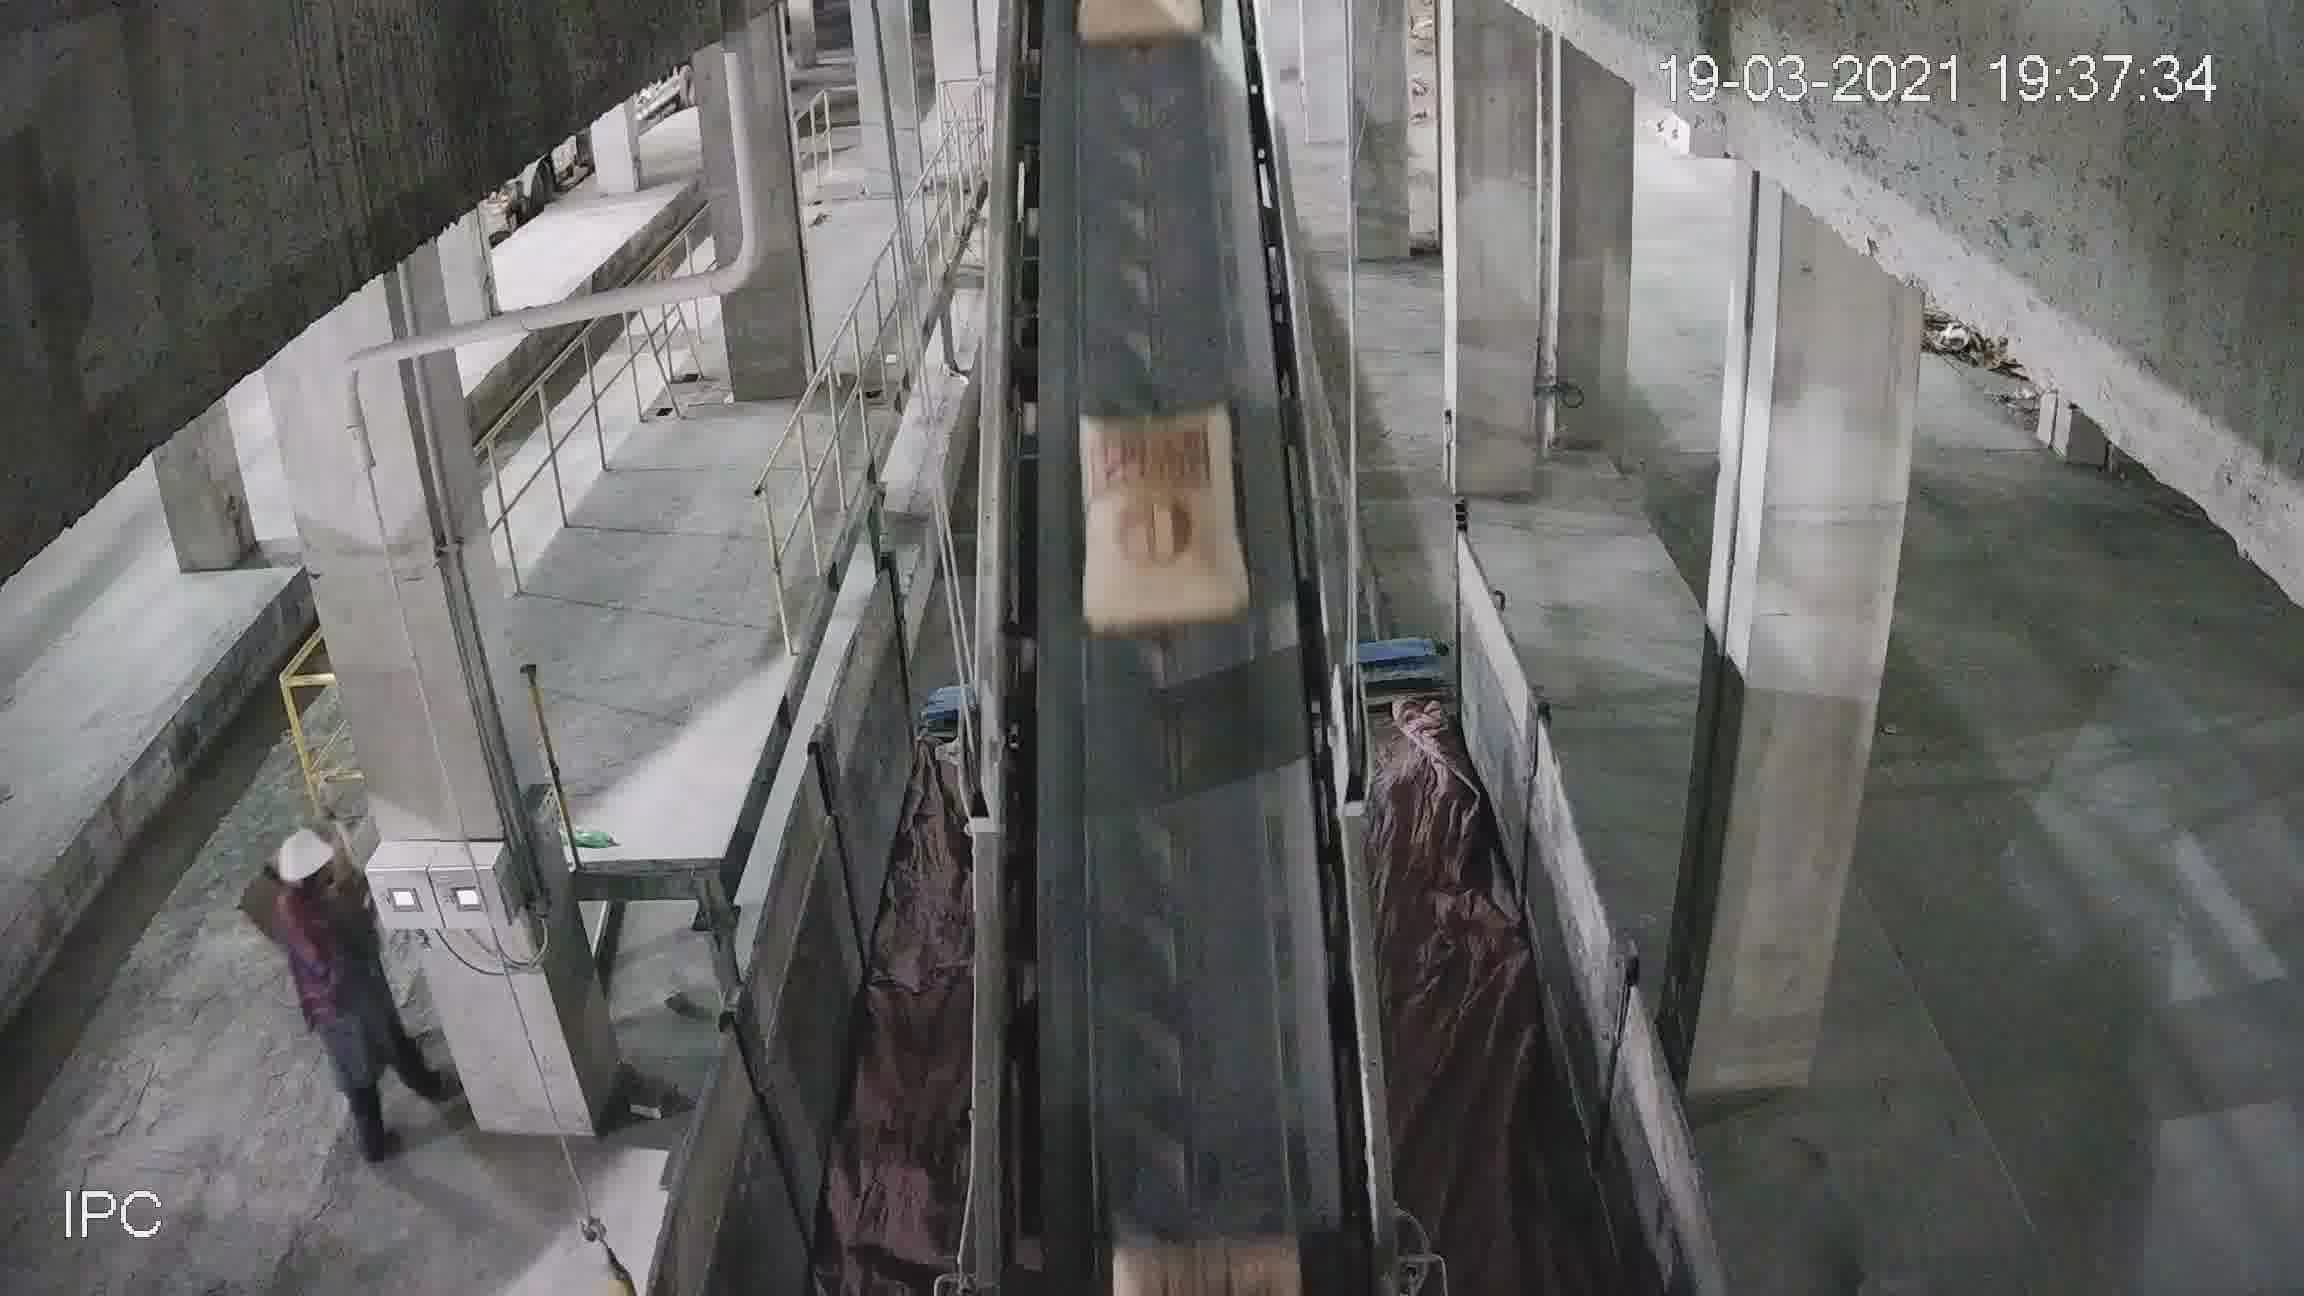bag: (1076, 402, 1242, 638)
belt: (978, 0, 1351, 1150)
